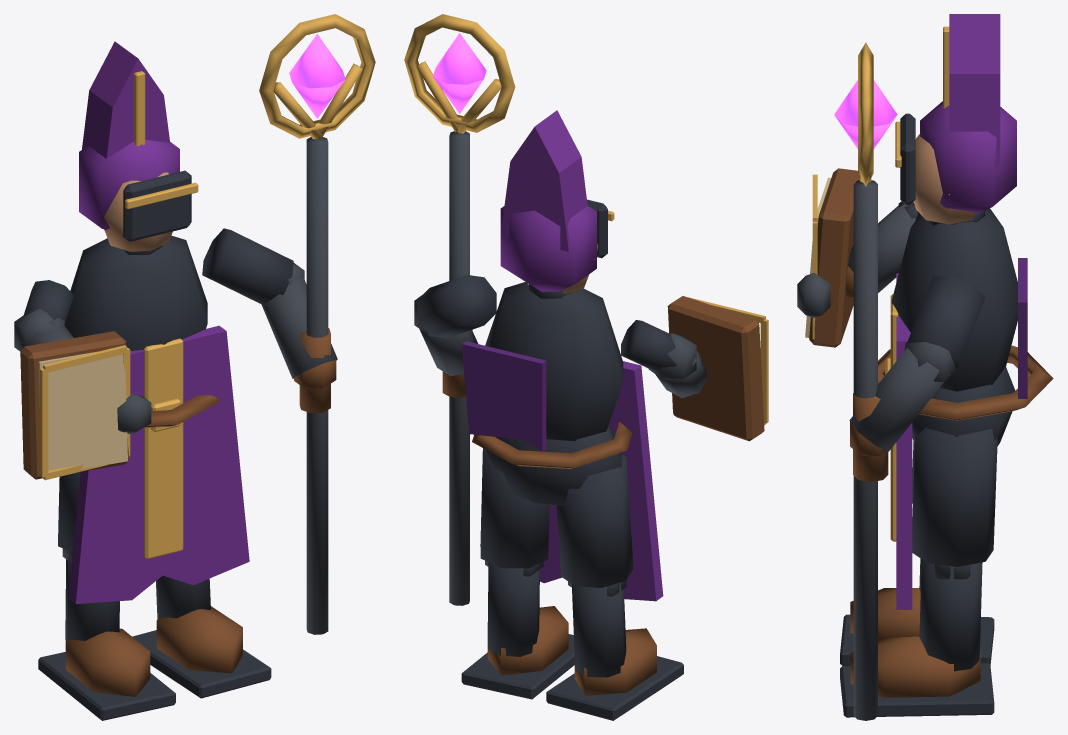
3 renders of one model, left to right at view 1: azimuth 30°, elevation 25°; view 2: azimuth 150°, elevation 25°; view 3: azimuth 270°, elevation 25°, orthographic. The views are drawn at different scales.
Visible parts, largest first — view 1: WK_Hegemony_AstralMagister_LOD2_Compact_Static; view 2: WK_Hegemony_AstralMagister_LOD2_Compact_Static; view 3: WK_Hegemony_AstralMagister_LOD2_Compact_Static.
Boxes of the visible parts, box(x1,y1,x2,y2) form: WK_Hegemony_AstralMagister_LOD2_Compact_Static: box(14, 14, 375, 720); WK_Hegemony_AstralMagister_LOD2_Compact_Static: box(404, 14, 768, 720); WK_Hegemony_AstralMagister_LOD2_Compact_Static: box(797, 14, 1053, 720).
Bounding box in the file's own units: 1.41 × 2.4 × 0.8.
